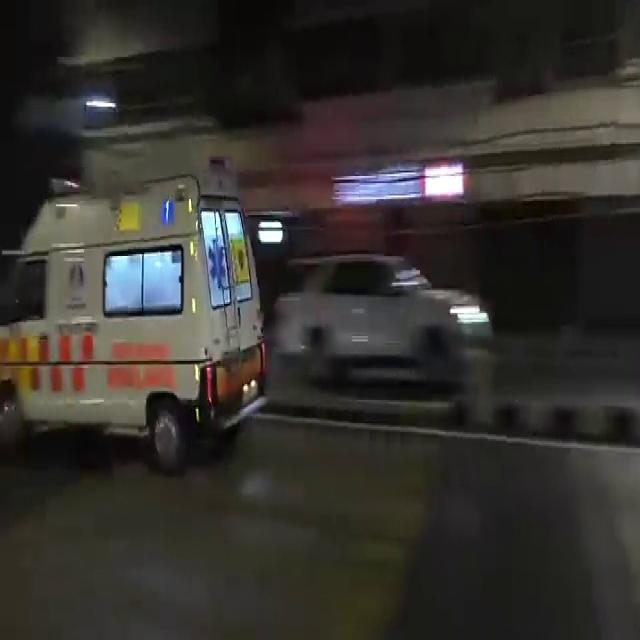ambulance: (0, 203, 282, 441)
